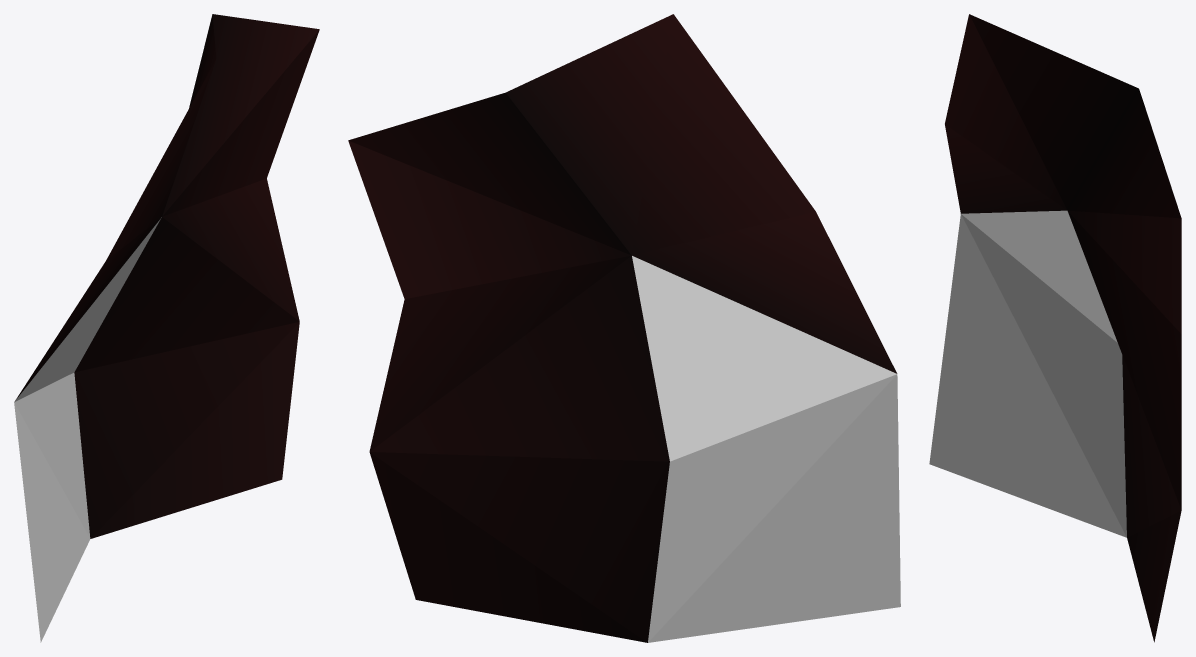
Rendered from level2Floor_grp.fbx.
The picture shows the model from 3 angles, left to right: view 1: azimuth 30°, elevation 25°; view 2: azimuth 150°, elevation 25°; view 3: azimuth 270°, elevation 25°; orthographic projection. The views are drawn at different scales.
Visible parts, largest first — view 1: level2Wall_02, level2Wall_03, level2Wall_01, level2Wall_06, level2Wall_04, level2Wall_12, level2Wall_05, level2Wall_11, level2Wall_10, level2Wall_08, level2Wall_09, level2Wall_07; view 2: level2Wall_03, level2Wall_12, level2Wall_02, level2Wall_10, level2Wall_08, level2Wall_11, level2Wall_05, level2Wall_07, level2Wall_09, level2Wall_04, level2Wall_01, level2Wall_06; view 3: level2Wall_12, level2Wall_11, level2Wall_07, level2Wall_04, level2Wall_08, level2Wall_06, level2Wall_10, level2Wall_05, level2Wall_02, level2Wall_09, level2Wall_01.
Part boxes in pixels (bbox=[...]): level2Wall_02: bbox=[74, 322, 298, 538]; level2Wall_03: bbox=[75, 217, 299, 371]; level2Wall_01: bbox=[91, 322, 299, 538]; level2Wall_06: bbox=[162, 14, 319, 215]; level2Wall_04: bbox=[162, 178, 299, 321]; level2Wall_12: bbox=[14, 402, 90, 642]; level2Wall_05: bbox=[162, 30, 319, 216]; level2Wall_11: bbox=[14, 373, 90, 538]; level2Wall_10: bbox=[14, 218, 160, 401]; level2Wall_08: bbox=[106, 60, 215, 260]; level2Wall_09: bbox=[15, 217, 161, 400]; level2Wall_07: bbox=[189, 14, 216, 107]; level2Wall_03: bbox=[370, 256, 669, 461]; level2Wall_12: bbox=[648, 374, 900, 642]; level2Wall_02: bbox=[370, 452, 669, 642]; level2Wall_10: bbox=[632, 256, 896, 461]; level2Wall_08: bbox=[632, 14, 815, 255]; level2Wall_11: bbox=[648, 374, 896, 642]; level2Wall_05: bbox=[348, 140, 631, 298]; level2Wall_07: bbox=[506, 14, 673, 255]; level2Wall_09: bbox=[632, 211, 897, 373]; level2Wall_04: bbox=[369, 255, 631, 451]; level2Wall_01: bbox=[369, 452, 647, 642]; level2Wall_06: bbox=[348, 92, 631, 255]; level2Wall_12: bbox=[929, 214, 1126, 537]; level2Wall_11: bbox=[961, 214, 1126, 537]; level2Wall_07: bbox=[969, 14, 1138, 210]; level2Wall_04: bbox=[1067, 211, 1181, 509]; level2Wall_08: bbox=[945, 14, 1066, 209]; level2Wall_06: bbox=[1067, 89, 1181, 218]; level2Wall_10: bbox=[961, 210, 1117, 342]; level2Wall_05: bbox=[1068, 210, 1181, 333]; level2Wall_02: bbox=[1122, 355, 1181, 537]; level2Wall_09: bbox=[945, 124, 1066, 213]; level2Wall_01: bbox=[1127, 510, 1181, 642].
Size of what is drawn, in the model's own units: 296 by 360 by 150.
